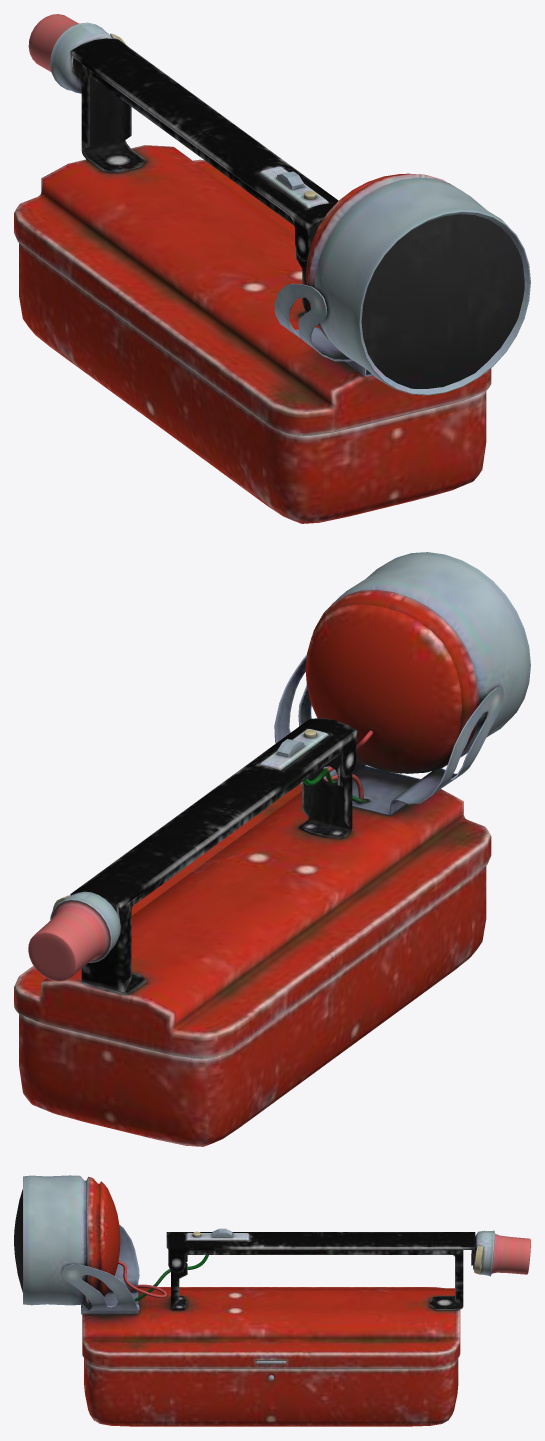
3 renders of one model, top to bottom at view 1: azimuth 30°, elevation 25°; view 2: azimuth 150°, elevation 25°; view 3: azimuth 270°, elevation 25°, orthographic. The views are drawn at different scales.
Parts seen in each view (by area): view 1: vintage_flashlight; view 2: vintage_flashlight; view 3: vintage_flashlight.
Part boxes in pixels (<box>): vintage_flashlight: <box>14,14,530,523</box>; vintage_flashlight: <box>14,552,530,1146</box>; vintage_flashlight: <box>14,1175,530,1426</box>.
Bounding box in the file's own units: 0.0959 × 0.1443 × 0.3055.
2 materials, 2 textured.
